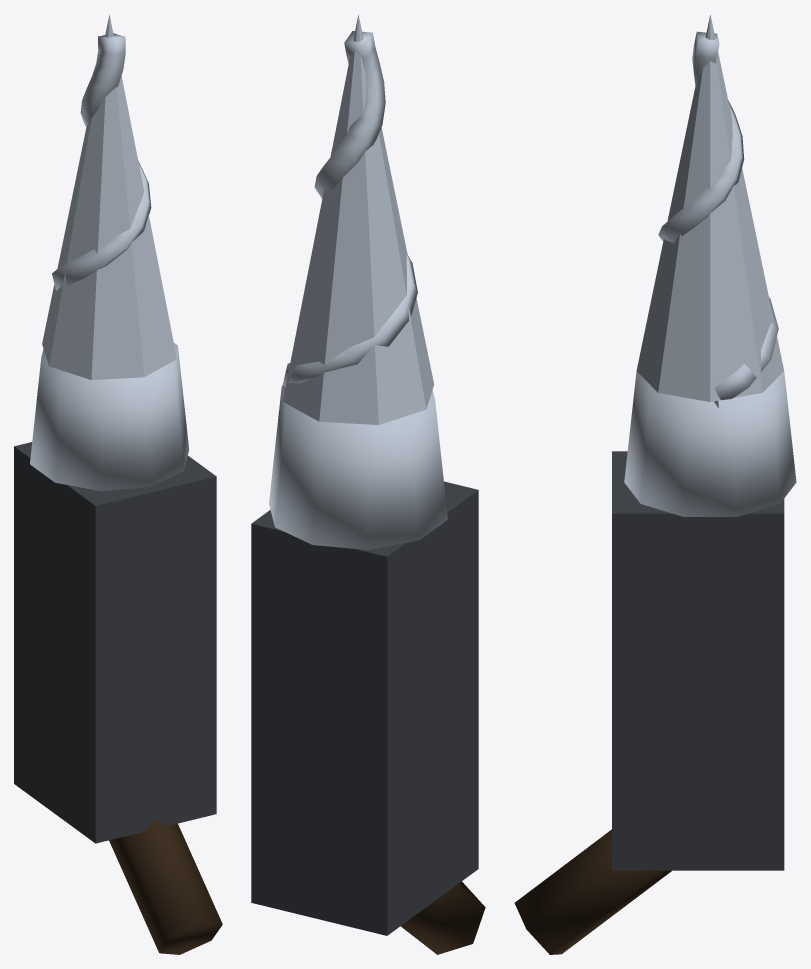
Rendered from titanium_drill.glb.
3 views of the same model, side by side, from view 1: azimuth 30°, elevation 25°; view 2: azimuth 150°, elevation 25°; view 3: azimuth 270°, elevation 25° (orthographic). The views are drawn at different scales.
Parts seen in each view (by area): view 1: titanium_drill_v0; view 2: titanium_drill_v0; view 3: titanium_drill_v0.
Part boxes in pixels (<box>): titanium_drill_v0: <box>14,14,222,954</box>; titanium_drill_v0: <box>251,14,485,954</box>; titanium_drill_v0: <box>514,15,796,954</box>.
Bounding box in the file's own units: 0.1331 × 0.843 × 0.2292.
